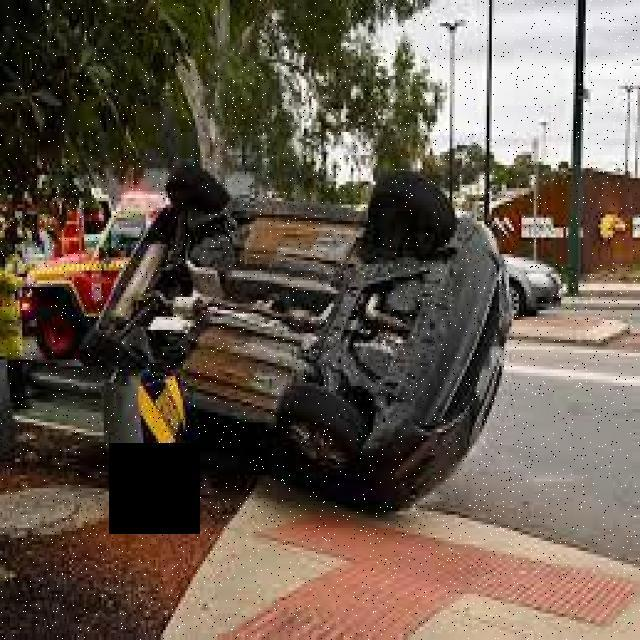severe: (80, 158, 518, 522)
